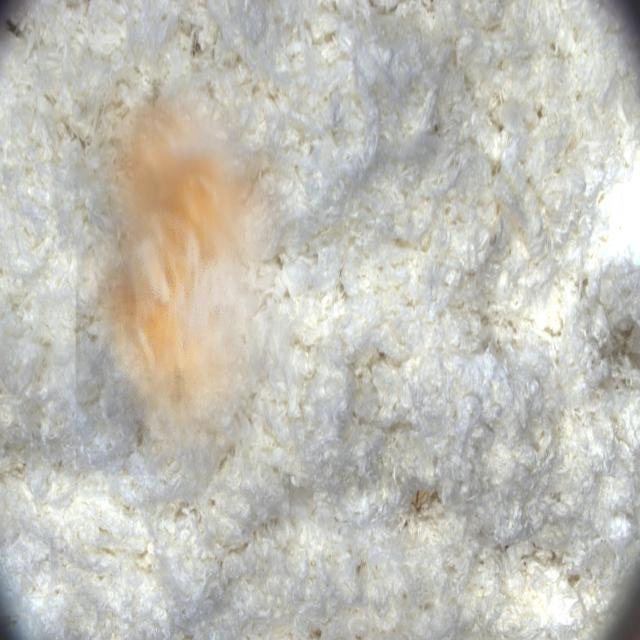dust: (76, 86, 293, 476)
